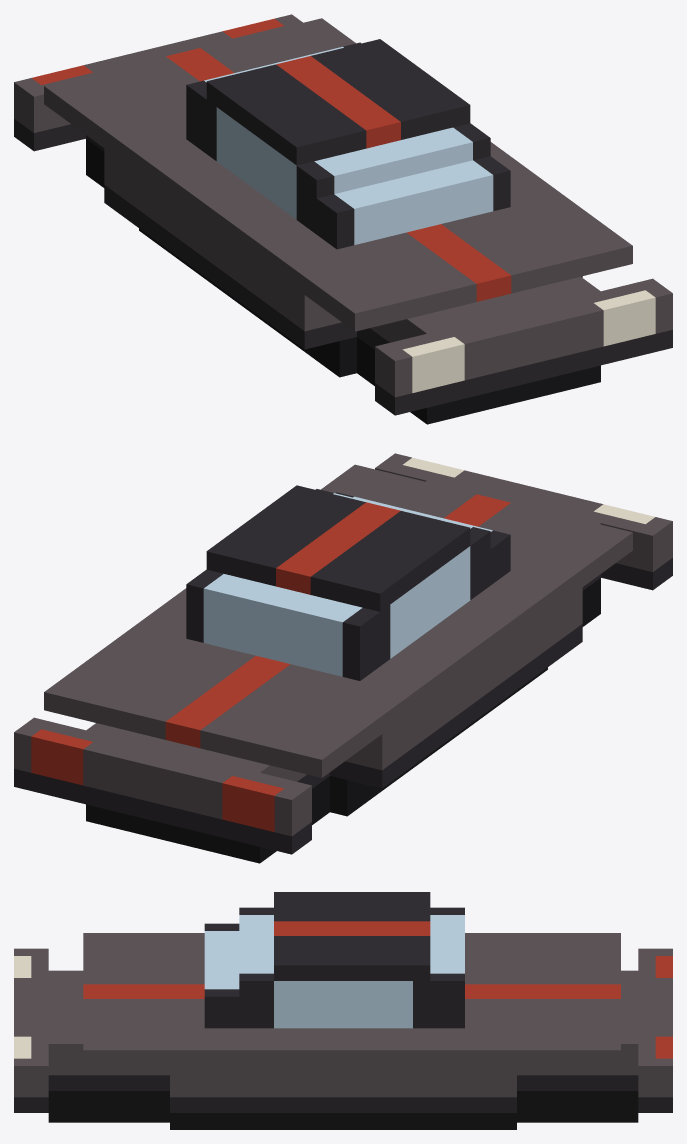
File: verdict_d1.obj
3 renders of one model, top to bottom at view 1: azimuth 30°, elevation 25°; view 2: azimuth 150°, elevation 25°; view 3: azimuth 270°, elevation 25°, orthographic. The views are drawn at different scales.
Size of the model in its own units: 1.6 by 1 by 3.8.
1 material, 1 textured.
